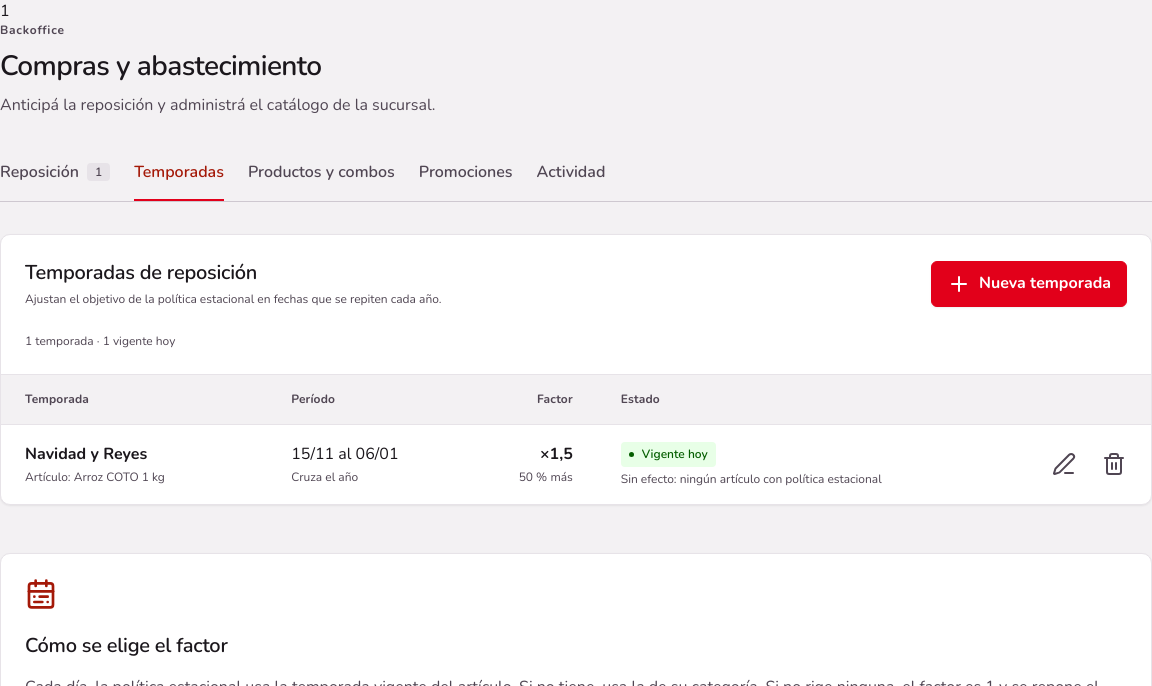
temporadas de reposición › sin el período completo no envía la temporada
The width and height of the screenshot is (1152, 686).
Expected: the text with test id "revision" is shown, [0,0,10,22]
Expected: the row "Navidad" is shown, [1,424,1151,504]
Step 1. Click the button "Nueva temporada" → (1029, 284), box [931,260,1127,306]
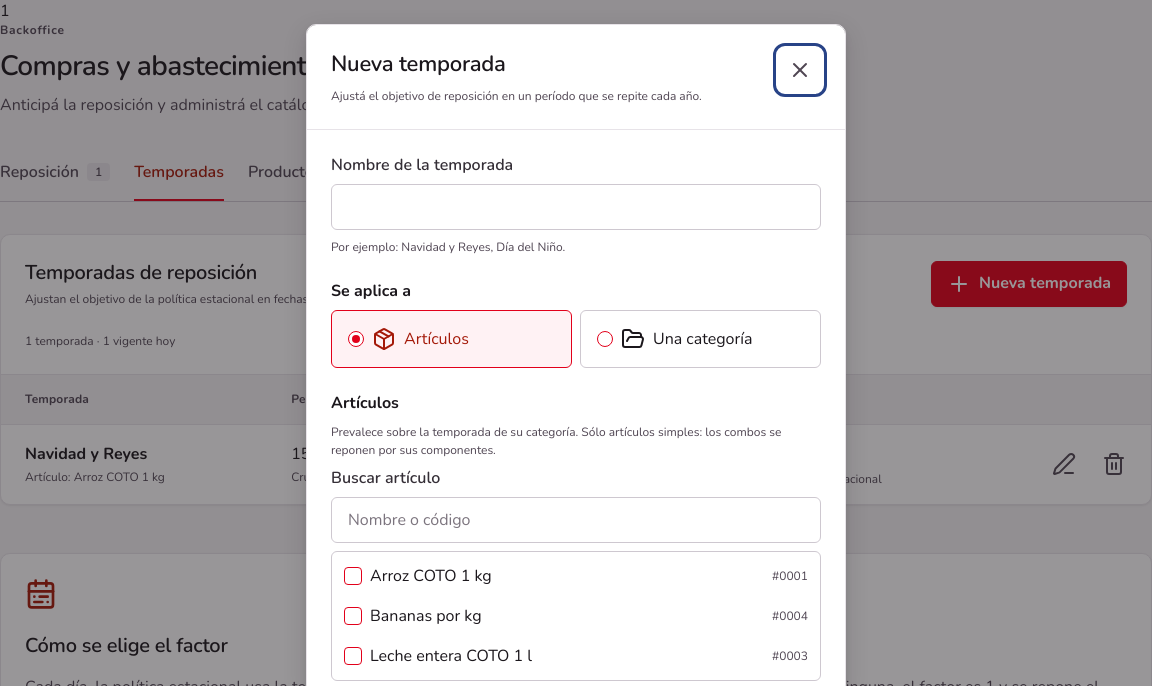
Step 2. Type "Incompleta" into the field labelled "Nombre de la temporada" → (576, 207), box [331,184,821,230]
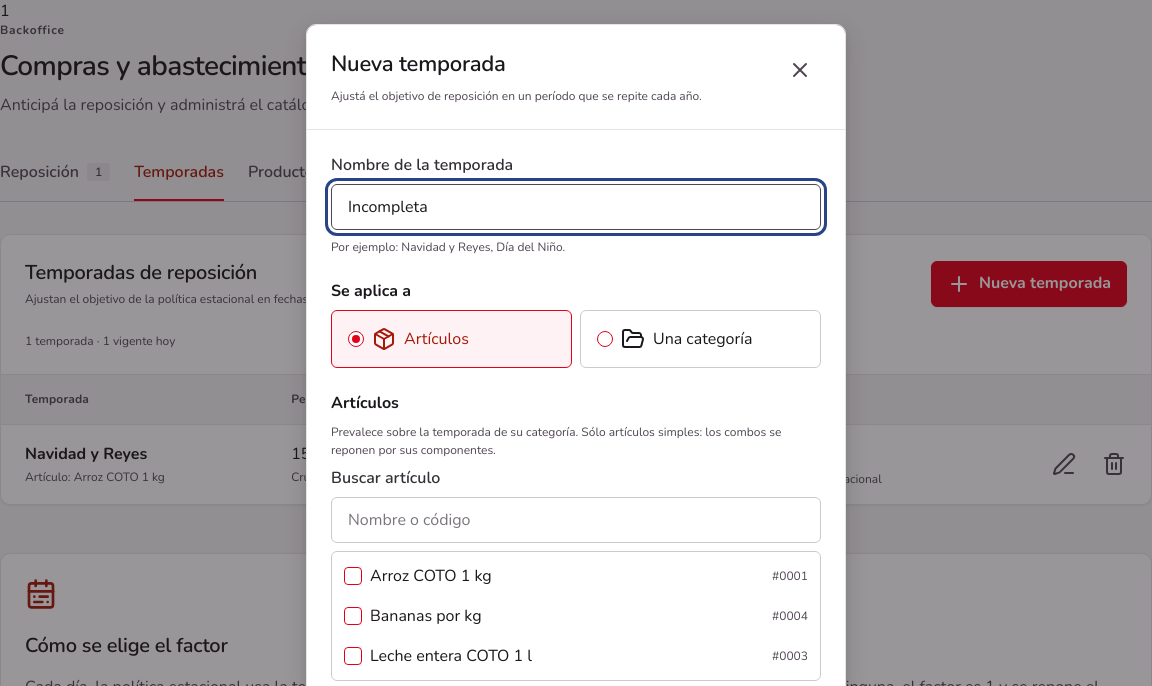
Step 3. Click the checkbox labelled "Bananas por kg #0004" → (353, 616), box [344,607,362,625]
(page scrolled)
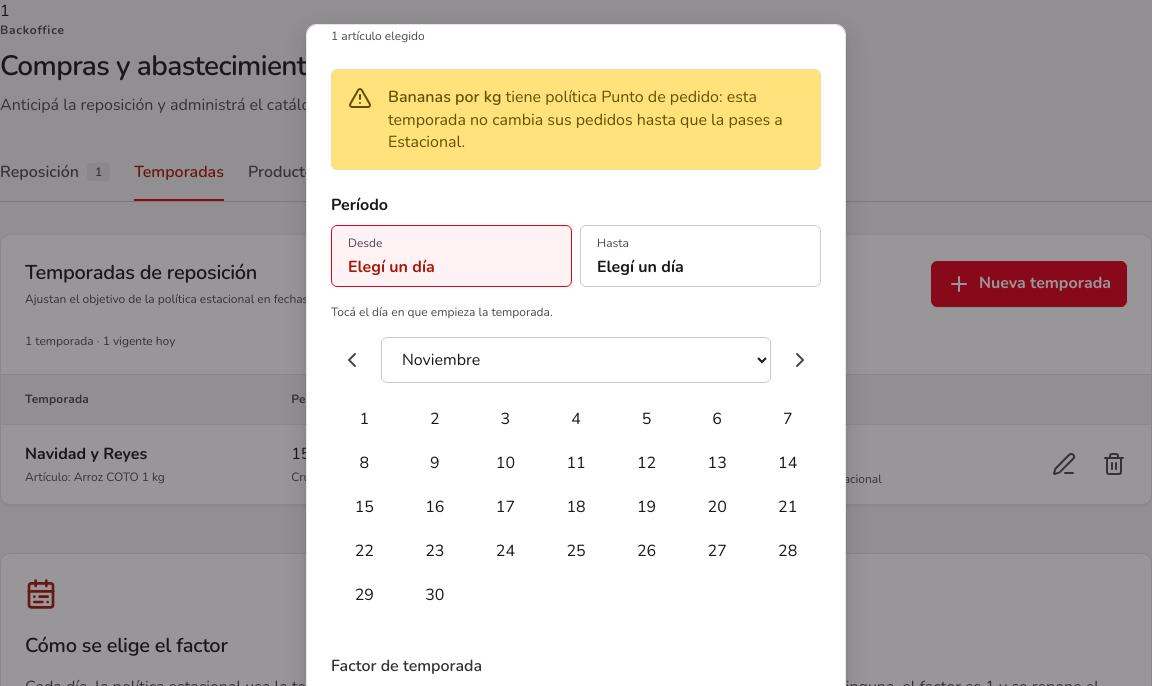
Step 4. Select "Marzo" in the dropdown named "Mes del calendario" → (576, 360), box [381,337,771,383]
Step 5. Click the button "1" → (364, 419), box [331,399,398,439]
(page scrolled)
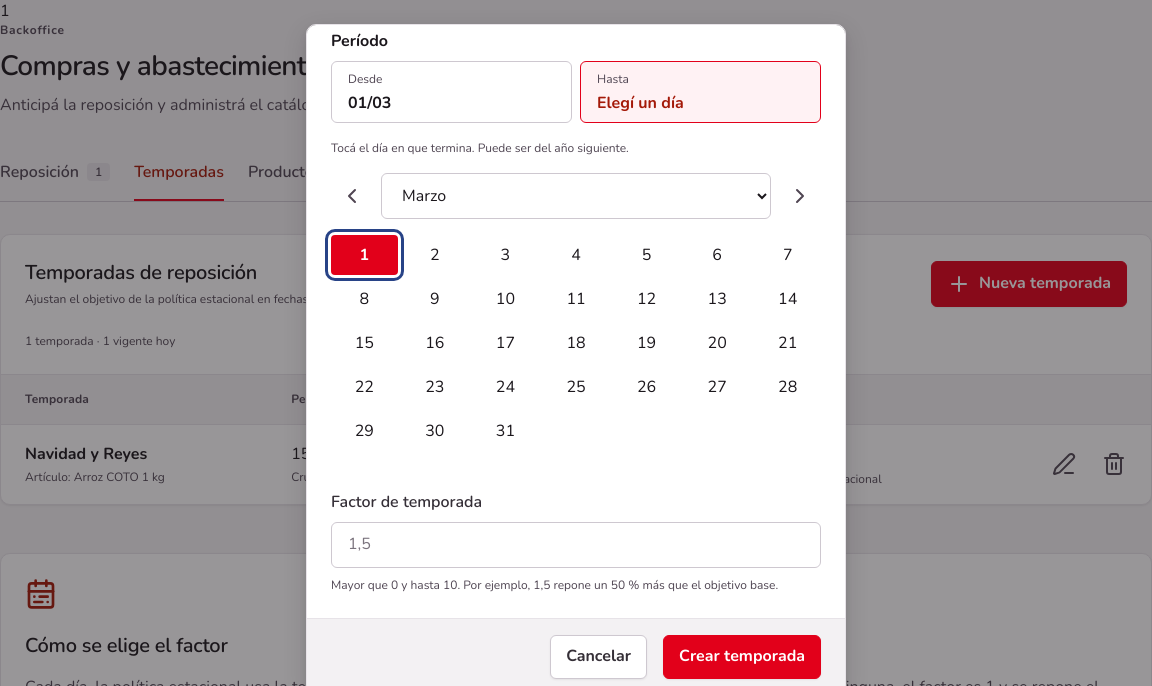
Step 6. Type "1.1" into the number field labelled "Factor de temporada" → (576, 544), box [331,522,821,568]
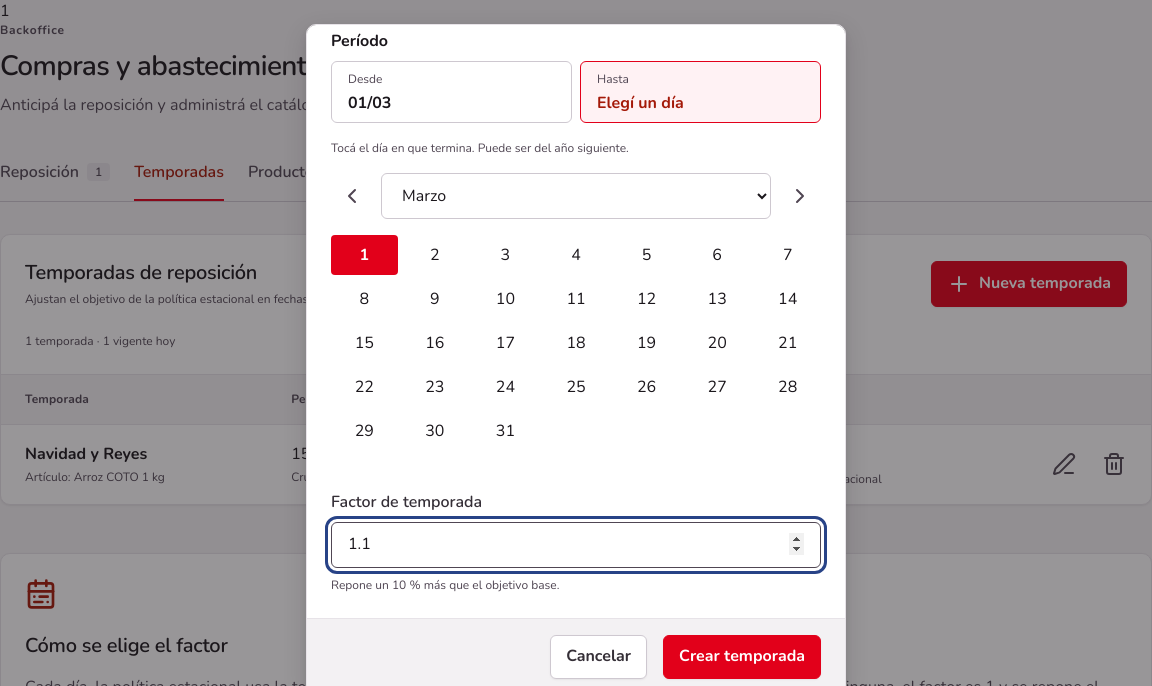
Step 7. Click the button "Crear temporada" → (742, 656), box [663,634,821,678]
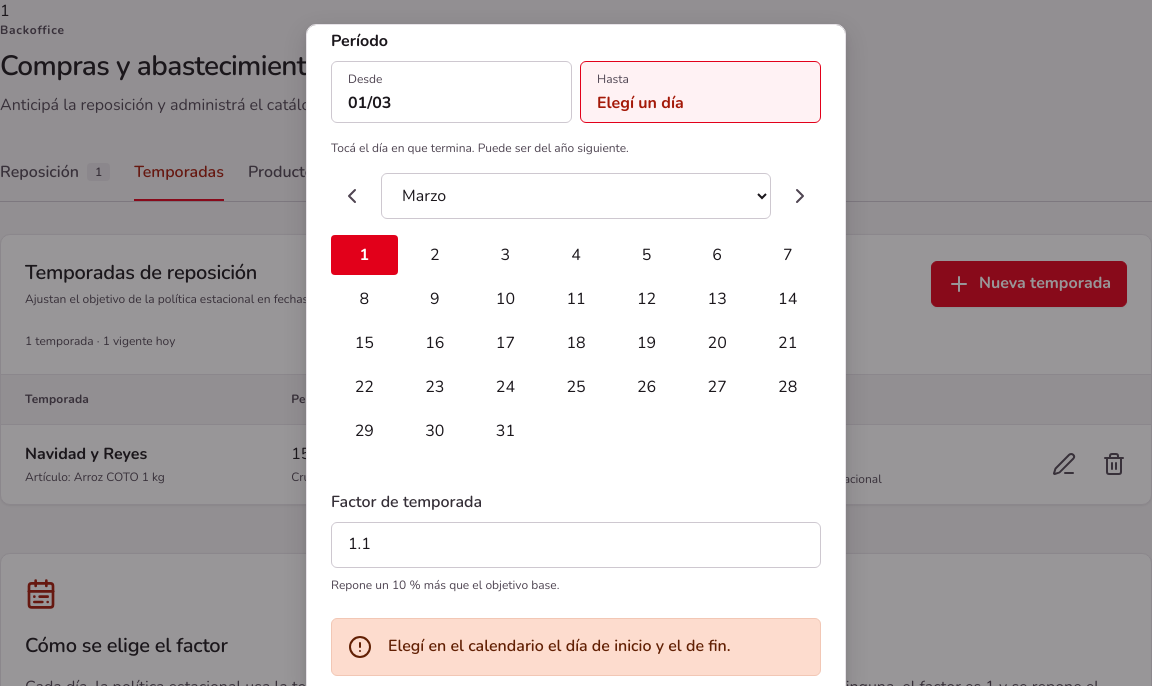
Expected: the message reads "Elegí en el calendario el día de inicio y el de fin.", [388,634,731,656]
